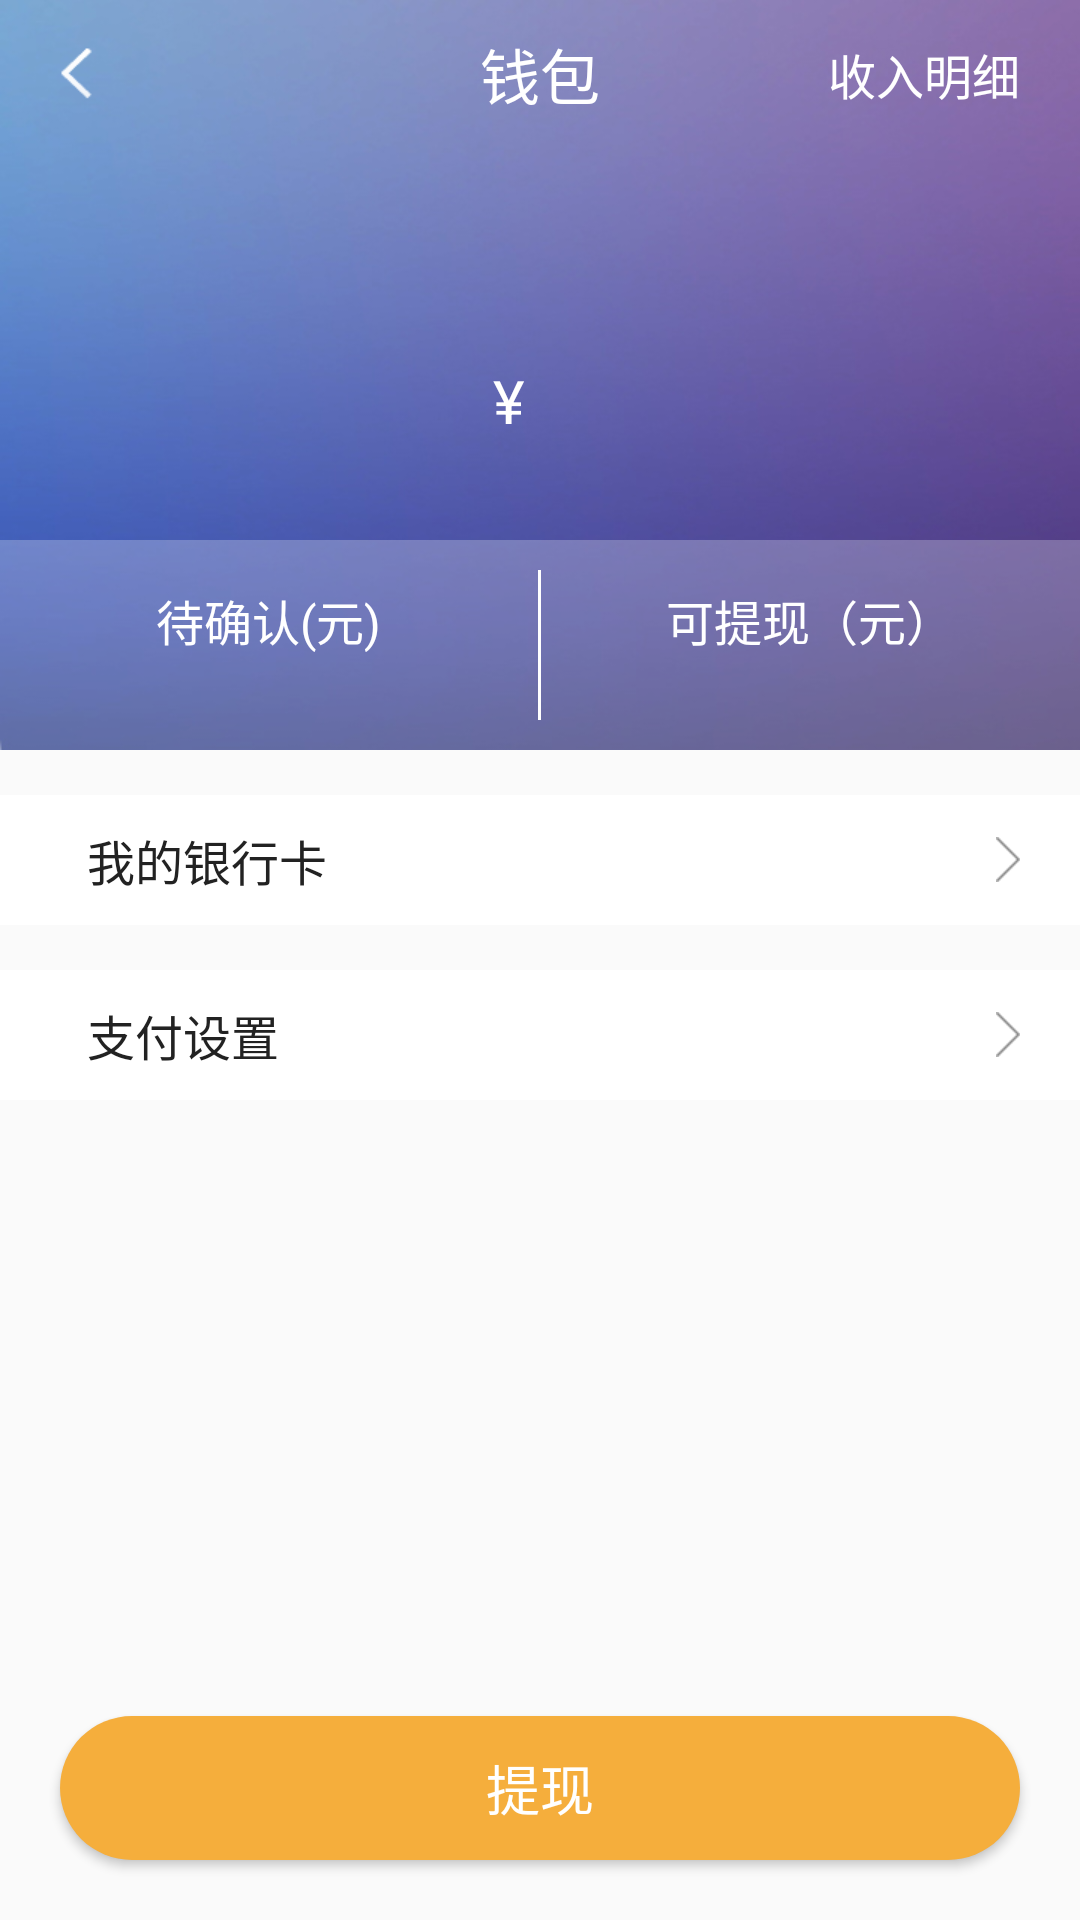

Named icons in this screenshot (1080 × 1920) and their centers, (x=x, y=y):
newback: (x=76, y=73)
right: (x=1008, y=859), (x=1008, y=1034)
